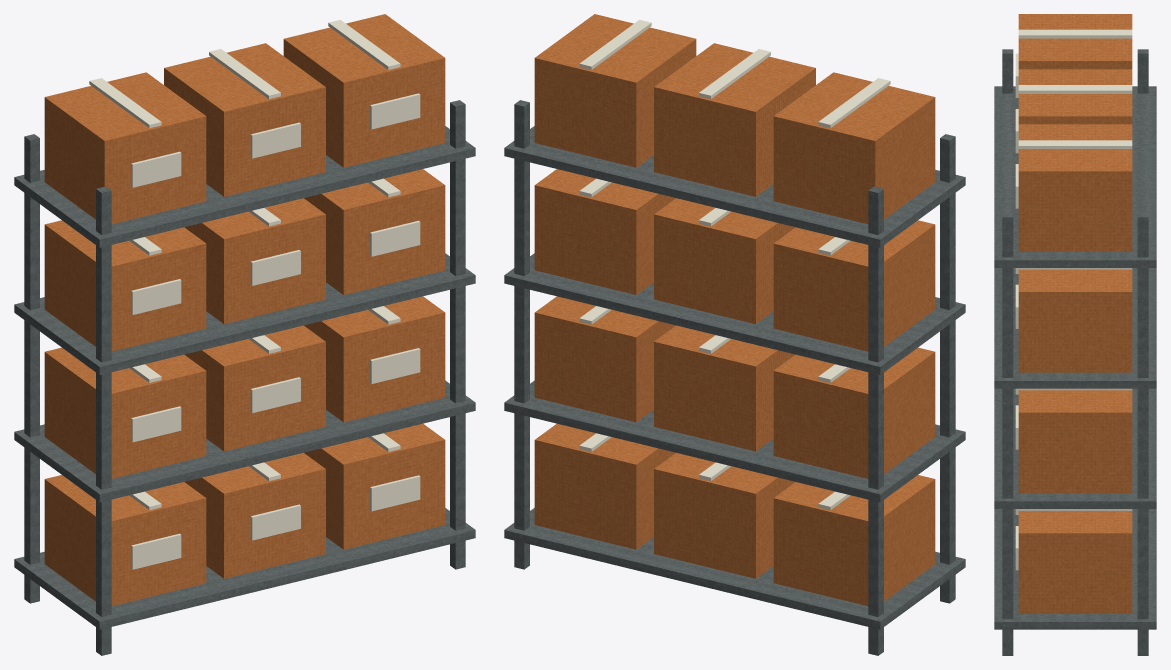
The model's file is tw_parcel_shelf.glb.
3 views of the same model, side by side, from view 1: azimuth 30°, elevation 25°; view 2: azimuth 150°, elevation 25°; view 3: azimuth 270°, elevation 25° (orthographic). The views are drawn at different scales.
Visible parts, largest first — view 1: WovenAwning, GalvanizedMetal, PaintedCream; view 2: WovenAwning, GalvanizedMetal, PaintedCream; view 3: WovenAwning, GalvanizedMetal, PaintedCream.
Part boxes in pixels (box(x1,y1,x2,y2)): WovenAwning: box(44, 14, 445, 606); GalvanizedMetal: box(14, 100, 475, 655); PaintedCream: box(89, 19, 420, 569); WovenAwning: box(534, 14, 935, 606); GalvanizedMetal: box(504, 100, 965, 655); PaintedCream: box(579, 19, 890, 510); WovenAwning: box(1018, 14, 1132, 613); GalvanizedMetal: box(994, 49, 1156, 655); PaintedCream: box(1015, 29, 1132, 570).
Bounding box in the file's own units: 1.7 × 2.21 × 0.67.
Materials: 3 (2 with a texture image).
